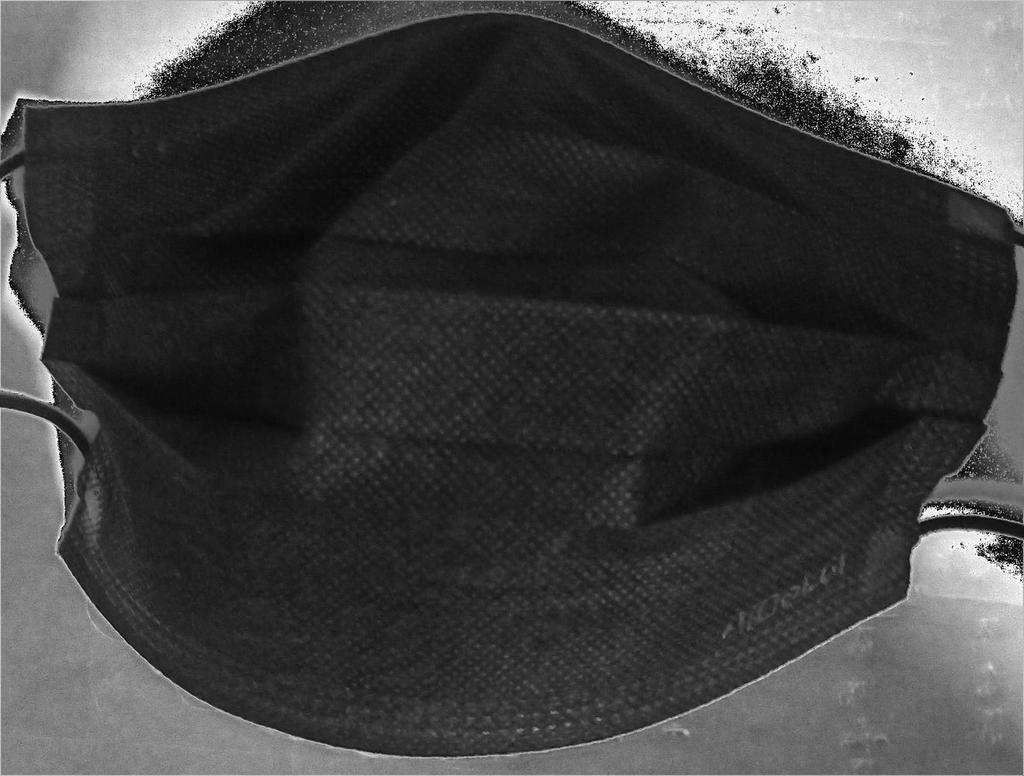Low GSM: (24, 7, 947, 710)
